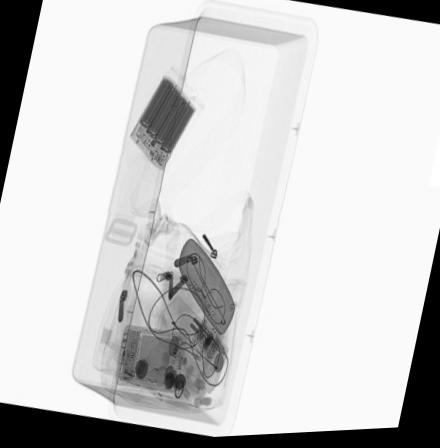Powerbank: (128, 73, 195, 174)
